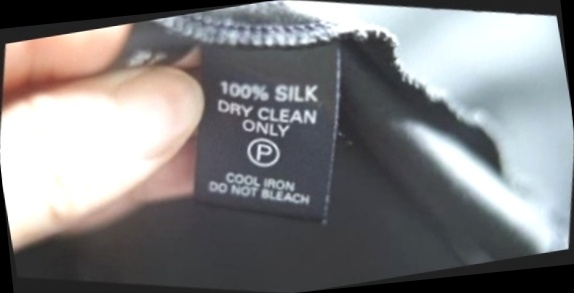dry_clean_any_solvent_except_trichloroethylene: (238, 126, 291, 177)
